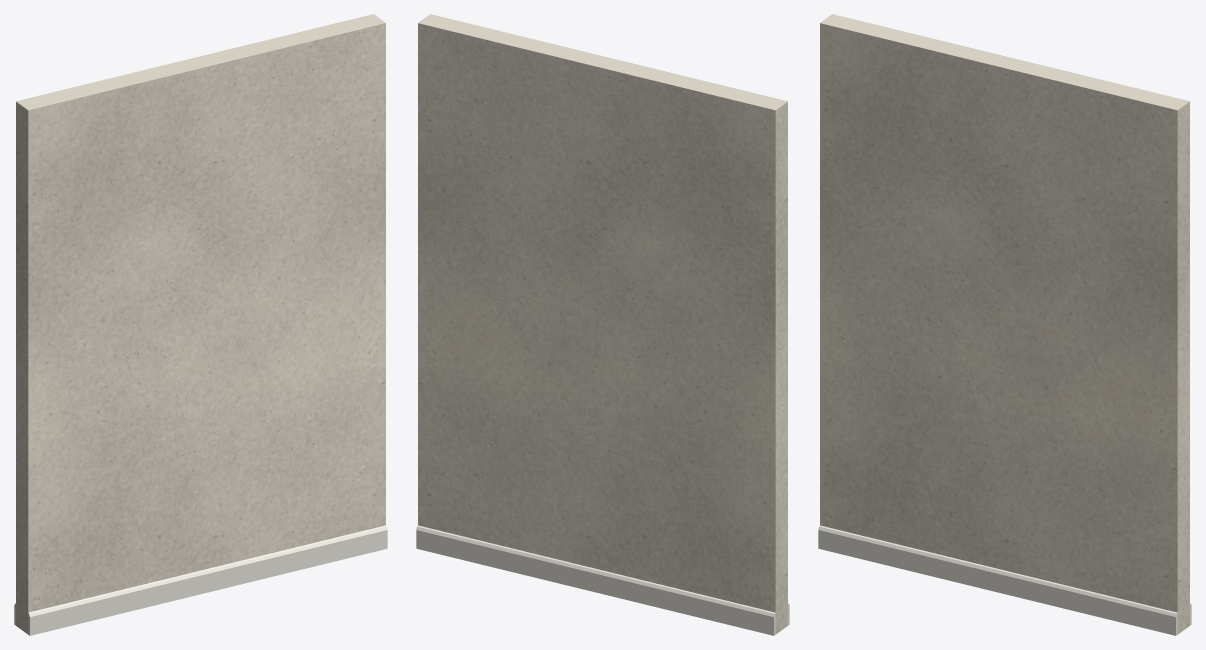
The model's file is interior_wall_plain.glb.
3 views of the same model, side by side, from view 1: azimuth 30°, elevation 25°; view 2: azimuth 150°, elevation 25°; view 3: azimuth 330°, elevation 25° (orthographic).
Parts seen in each view (by area): view 1: interior_wall_plain_plaster, interior_wall_plain_trim; view 2: interior_wall_plain_plaster, interior_wall_plain_trim; view 3: interior_wall_plain_plaster, interior_wall_plain_trim.
Boxes of the visible parts, x1,y1,x2,y2 form: interior_wall_plain_plaster: [16, 14, 385, 634]; interior_wall_plain_trim: [14, 525, 387, 635]; interior_wall_plain_plaster: [418, 14, 787, 634]; interior_wall_plain_trim: [416, 525, 789, 635]; interior_wall_plain_plaster: [820, 14, 1189, 634]; interior_wall_plain_trim: [818, 525, 1191, 635].
Size of the model in its own units: 2 by 2.8 by 0.152.
2 materials, 1 textured.
